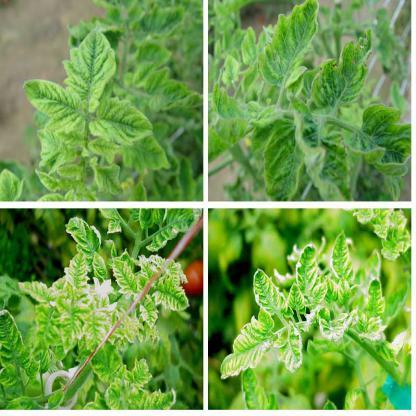Tomato mold leaf: (249, 2, 323, 96), (63, 26, 124, 112), (86, 93, 162, 146), (262, 115, 308, 202), (20, 70, 85, 131)
